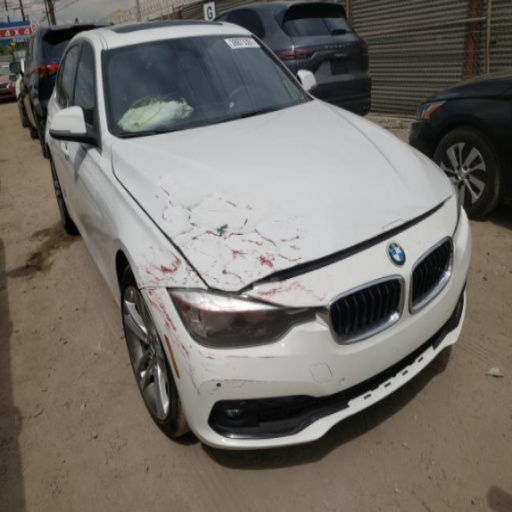rust: (163, 334, 181, 380), (223, 377, 263, 387), (225, 353, 277, 359)
scratch: (381, 217, 406, 230)
